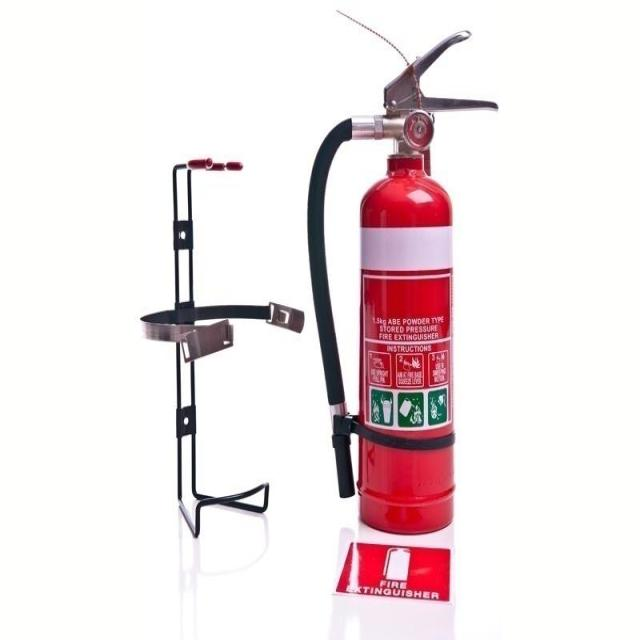fire_extinguisher: (299, 24, 502, 538)
